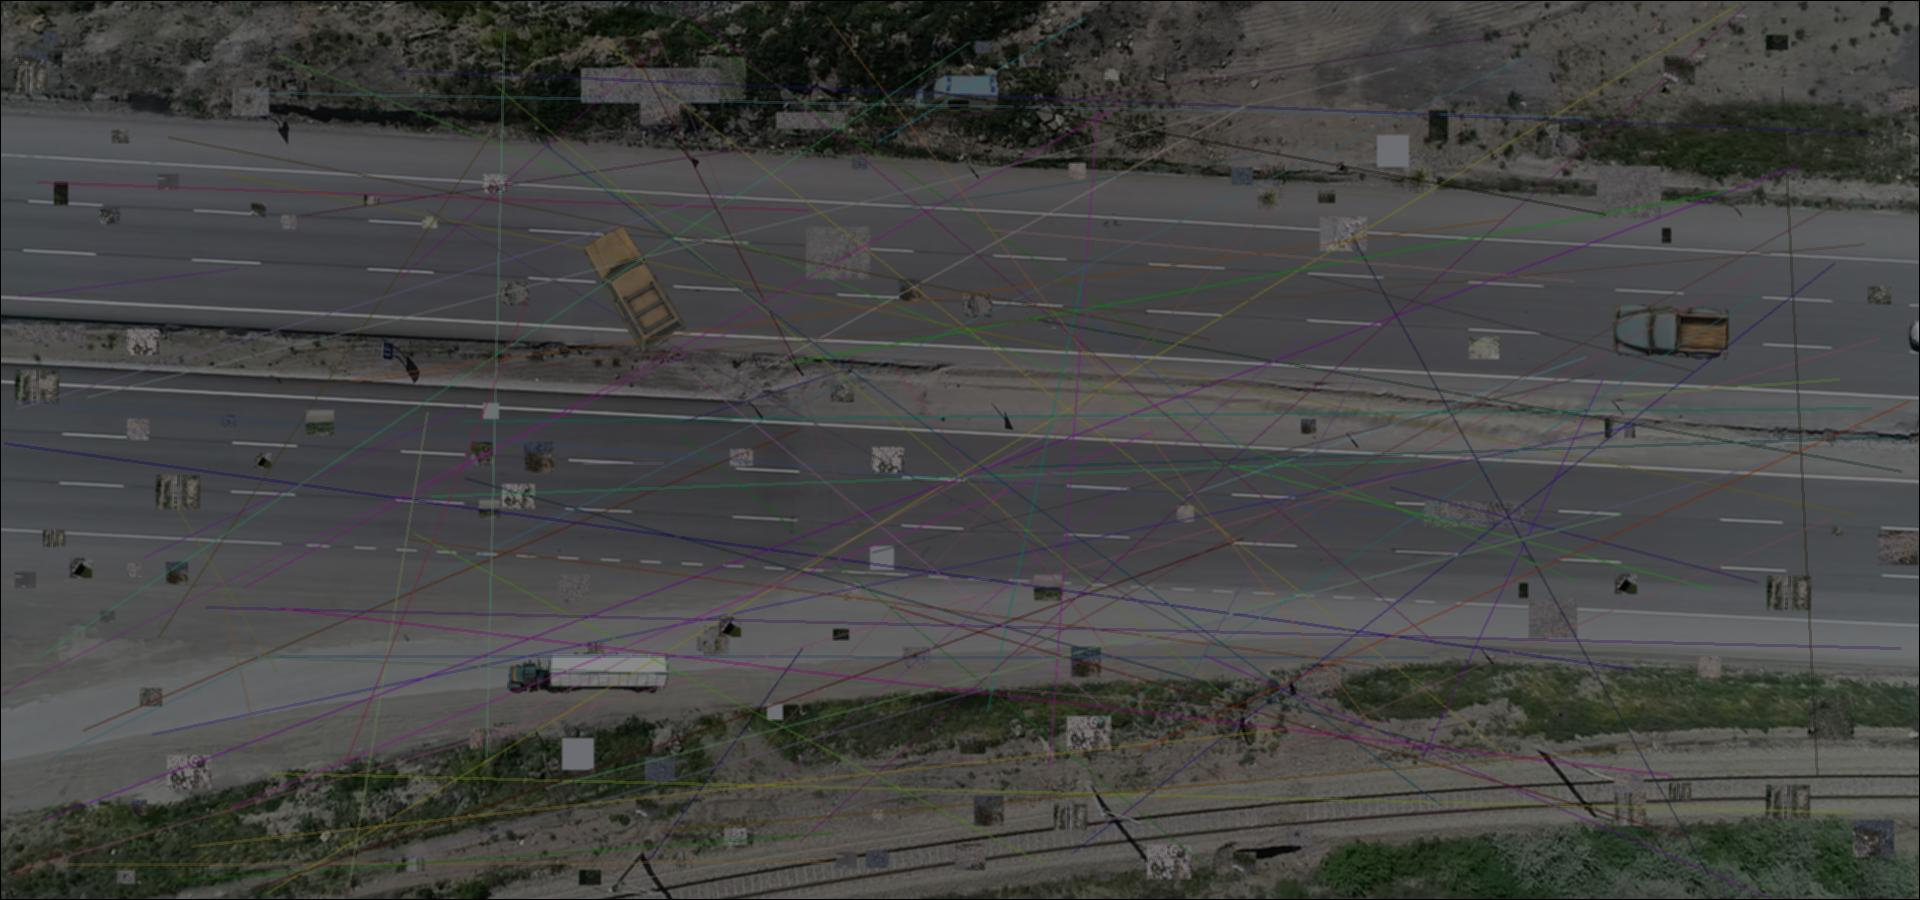arac: (579, 224, 687, 356), (508, 651, 669, 696), (1611, 304, 1730, 361), (911, 73, 1000, 119)
